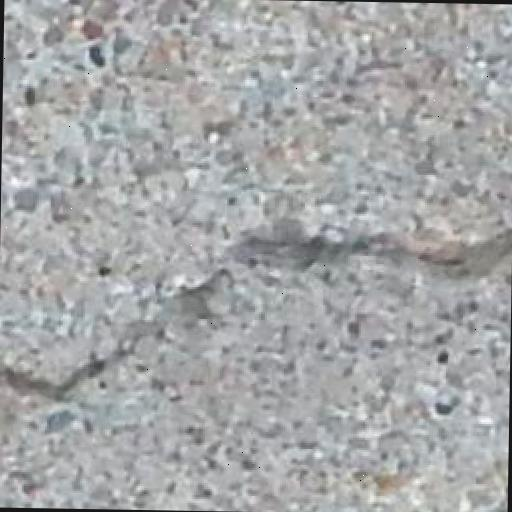spalling: (3, 188, 505, 427)
